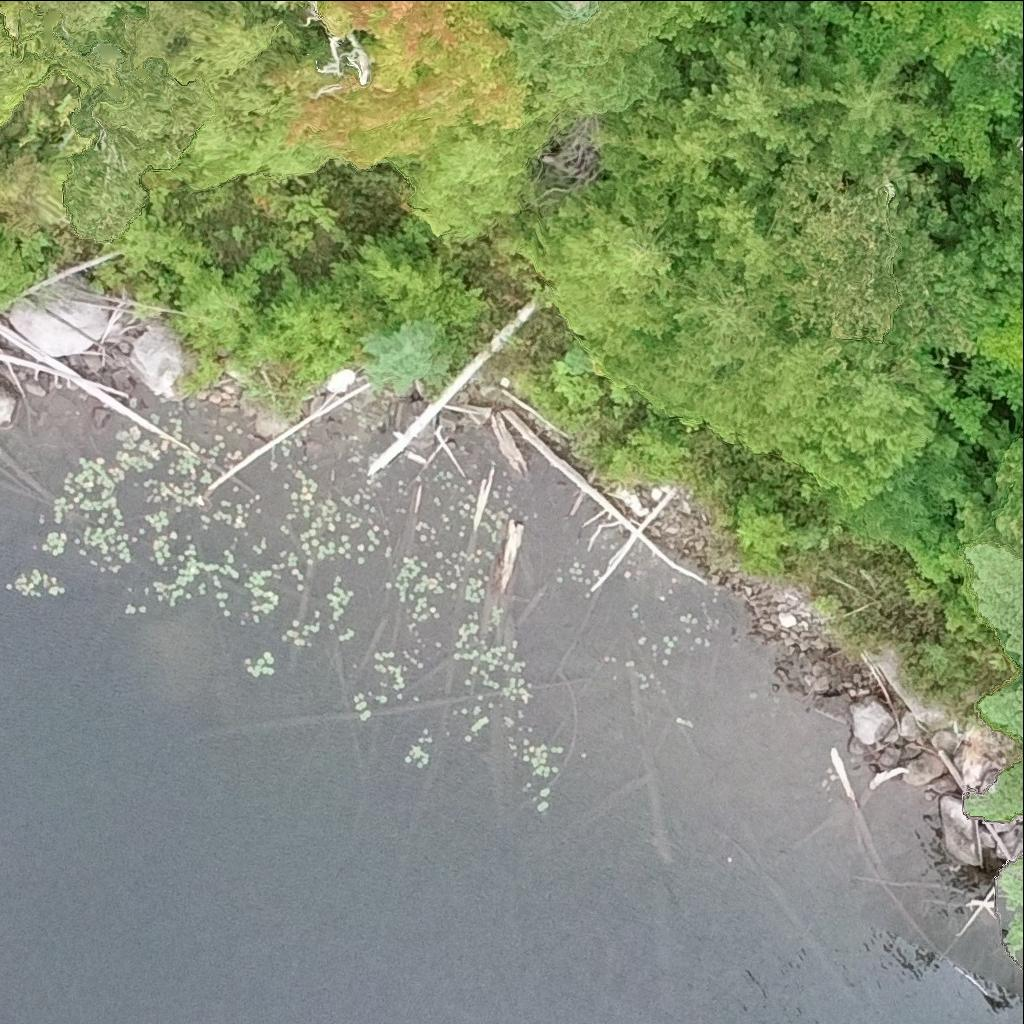crown: (177, 0, 530, 191), (497, 176, 692, 352), (602, 248, 785, 425), (386, 77, 583, 240), (671, 0, 828, 176), (695, 329, 871, 455), (790, 37, 939, 177), (508, 0, 685, 115), (667, 159, 805, 293), (334, 218, 488, 336), (592, 92, 728, 207), (236, 270, 363, 381), (835, 352, 958, 461), (939, 144, 1023, 288), (780, 416, 902, 510), (851, 451, 962, 551), (0, 0, 72, 127), (924, 250, 1023, 339), (359, 316, 454, 390), (24, 0, 152, 51), (647, 0, 764, 51), (980, 144, 1023, 262), (975, 550, 1023, 633), (974, 302, 1023, 377), (969, 763, 1023, 816), (985, 679, 1023, 736), (1000, 857, 1023, 902), (1009, 913, 1023, 937)
